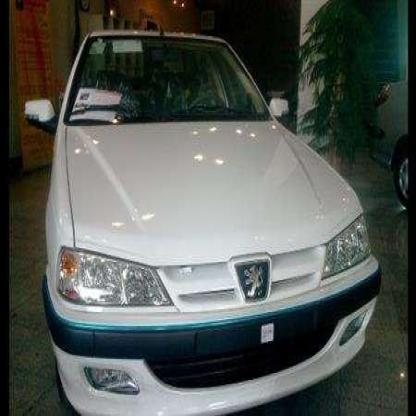Car: (39, 21, 377, 409), (368, 69, 416, 209)
